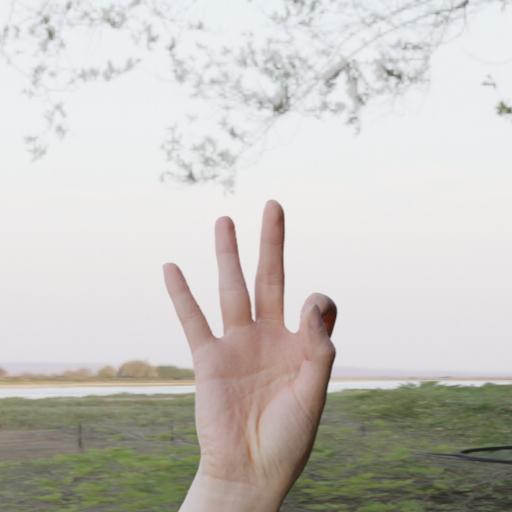F: (161, 196, 340, 483)
